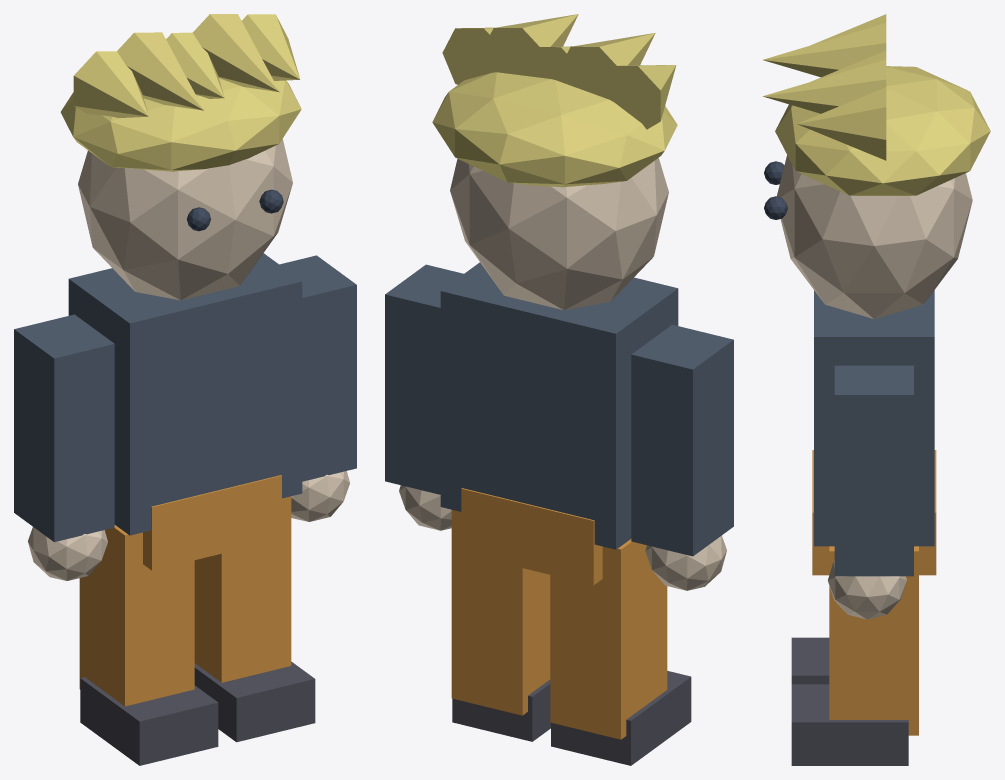
Rendered from bakugo.glb.
3 renders of one model, left to right at view 1: azimuth 30°, elevation 25°; view 2: azimuth 150°, elevation 25°; view 3: azimuth 270°, elevation 25°, orthographic. The views are drawn at different scales.
Visible parts, largest first — view 1: part_000, part_010, part_002, part_004, part_013, part_008, part_006, part_001, part_005, part_009, part_014, part_015 (+5 smaller); view 2: part_000, part_010, part_002, part_013, part_004, part_008, part_006, part_001, part_005, part_015, part_014, part_017 (+5 smaller); view 3: part_010, part_006, part_013, part_000, part_008, part_009, part_018, part_015, part_017, part_007, part_005, part_001 (+1 smaller).
Boxes of the visible parts, x1,y1,x2,y2 form: part_000: (68, 253, 302, 535); part_010: (78, 139, 292, 300); part_002: (14, 314, 114, 542); part_004: (79, 525, 194, 706); part_013: (60, 78, 301, 171); part_008: (194, 496, 291, 682); part_006: (279, 255, 356, 481); part_001: (143, 475, 281, 570); part_005: (80, 677, 218, 765); part_009: (194, 661, 315, 742); part_014: (73, 51, 148, 117); part_015: (117, 32, 203, 110); part_000: (440, 262, 678, 549); part_010: (450, 158, 668, 310); part_002: (631, 324, 733, 556); part_013: (432, 72, 677, 187); part_004: (550, 539, 667, 739); part_008: (451, 510, 550, 715); part_006: (385, 264, 463, 494); part_001: (461, 488, 602, 585); part_005: (551, 671, 691, 765); part_015: (558, 33, 655, 103); part_014: (596, 65, 676, 129); part_017: (481, 14, 578, 77); part_010: (777, 155, 972, 319); part_006: (834, 365, 913, 576); part_013: (775, 66, 990, 195); part_000: (814, 290, 934, 546); part_008: (829, 546, 918, 735); part_009: (791, 684, 908, 765); part_018: (797, 87, 886, 160); part_015: (763, 23, 886, 77); part_017: (763, 59, 886, 113); part_007: (827, 561, 906, 619); part_005: (791, 637, 829, 684); part_001: (812, 450, 936, 575).
Size of the model in its own units: 1.03 by 2.17 by 0.6628.
